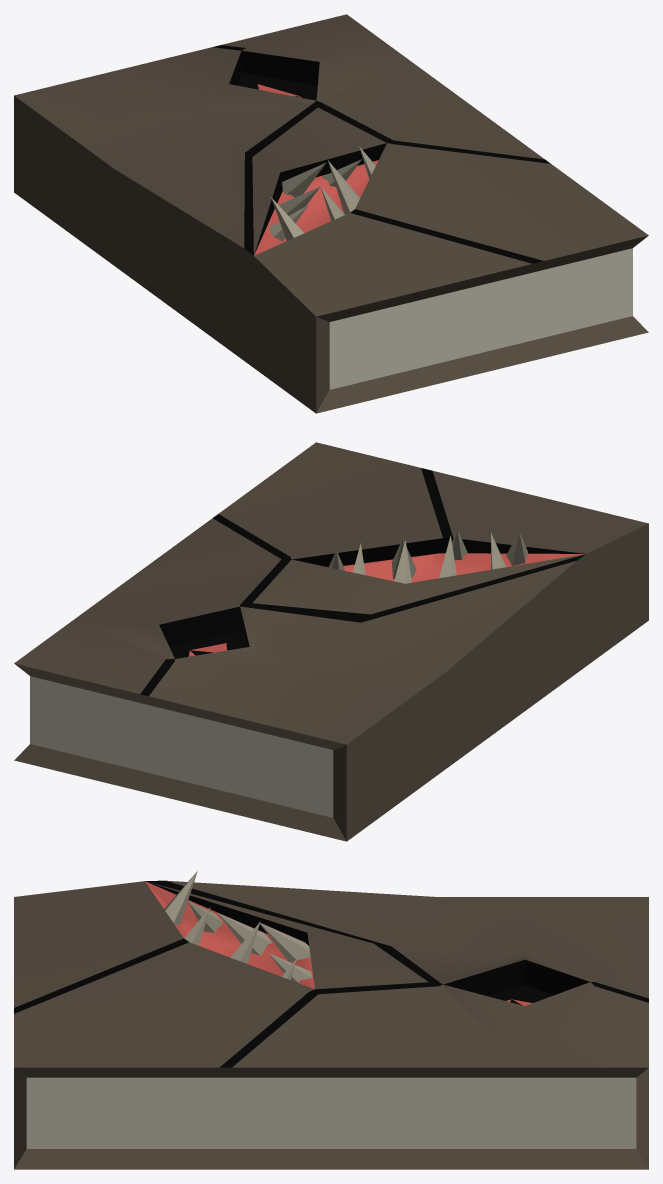
File: TomeofFM.fbx
The picture shows the model from 3 angles, top to bottom: view 1: azimuth 30°, elevation 25°; view 2: azimuth 150°, elevation 25°; view 3: azimuth 270°, elevation 25°; orthographic projection. The views are drawn at different scales.
Parts seen in each view (by area): view 1: TomeofFM; view 2: TomeofFM; view 3: TomeofFM.
Part boxes in pixels (x1=…): TomeofFM: x1=14, y1=14, x2=648, y2=413; TomeofFM: x1=14, y1=442, x2=648, y2=841; TomeofFM: x1=14, y1=871, x2=648, y2=1169.
Size of the model in its own units: 1.62 by 0.6632 by 2.54.
